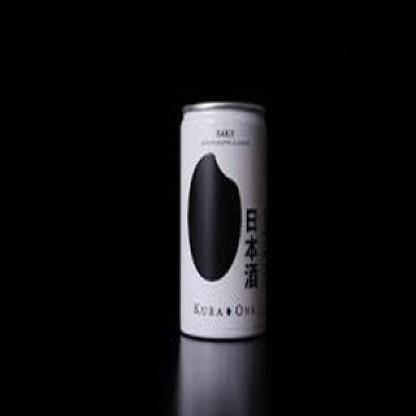Can: (176, 102, 272, 346)
